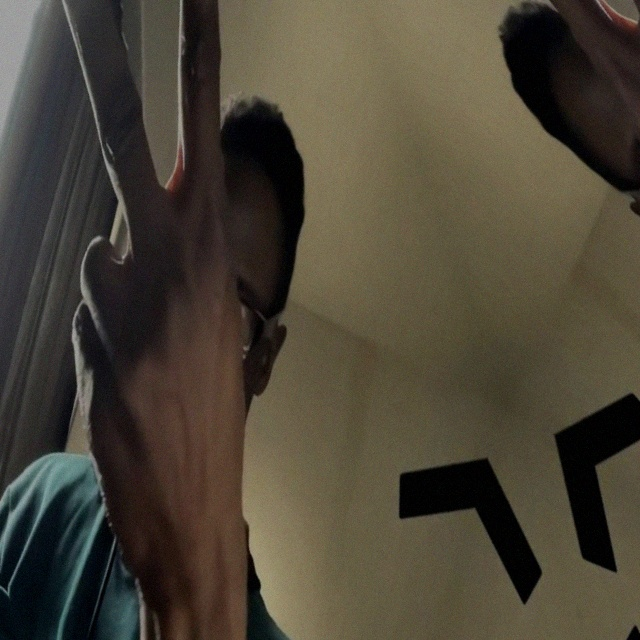Scissors: (348, 0, 640, 536)
